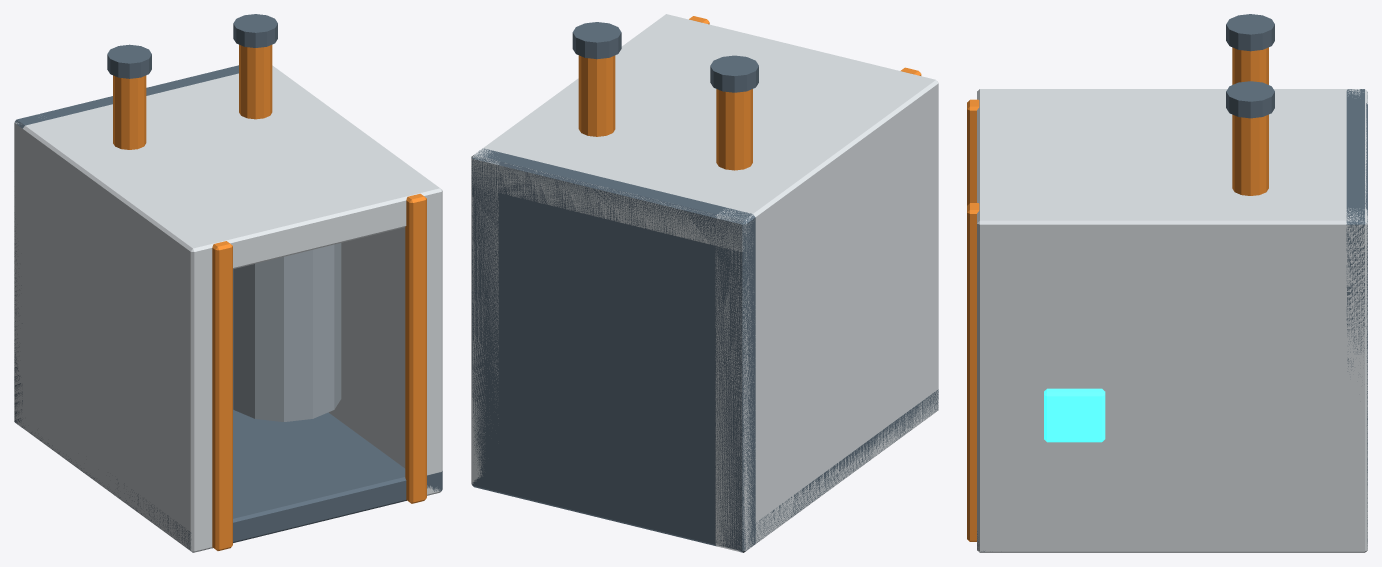
The model's file is machine-refinery.fbx.
3 renders of one model, left to right at view 1: azimuth 30°, elevation 25°; view 2: azimuth 150°, elevation 25°; view 3: azimuth 270°, elevation 25°, orthographic. The views are drawn at different scales.
Visible parts, largest first — view 1: machine-refinery_Machine column.002, machine-refinery_Crown.001, machine-refinery_Machine column.003, machine-refinery_Process vessel.003, machine-refinery_Skid.001, machine-refinery_Orange spine.003, machine-refinery_Orange spine.002, machine-refinery_Service stack.002, machine-refinery_Service stack.003, machine-refinery_Backplane.001, machine-refinery_Stack cap.003, machine-refinery_Stack cap.002; view 2: machine-refinery_Backplane.001, machine-refinery_Machine column.002, machine-refinery_Crown.001, machine-refinery_Skid.001, machine-refinery_Machine column.003, machine-refinery_Service stack.003, machine-refinery_Service stack.002, machine-refinery_Stack cap.003, machine-refinery_Stack cap.002; view 3: machine-refinery_Machine column.003, machine-refinery_Crown.001, machine-refinery_Backplane.001, machine-refinery_Machine column.002, machine-refinery_Orange spine.003, machine-refinery_Operator display.001, machine-refinery_Service stack.003, machine-refinery_Stack cap.003, machine-refinery_Stack cap.002, machine-refinery_Service stack.002, machine-refinery_Orange spine.002.
Boxes of the visible parts, <box> form: machine-refinery_Machine column.002: <box>14,114,216,552</box>; machine-refinery_Crown.001: <box>43,66,442,277</box>; machine-refinery_Machine column.003: <box>272,65,442,495</box>; machine-refinery_Process vessel.003: <box>233,243,341,421</box>; machine-refinery_Skid.001: <box>18,409,442,550</box>; machine-refinery_Orange spine.003: <box>405,193,426,503</box>; machine-refinery_Orange spine.002: <box>212,241,232,550</box>; machine-refinery_Service stack.002: <box>113,75,146,149</box>; machine-refinery_Service stack.003: <box>239,44,272,119</box>; machine-refinery_Backplane.001: <box>14,65,238,427</box>; machine-refinery_Stack cap.003: <box>233,14,277,47</box>; machine-refinery_Stack cap.002: <box>107,44,151,78</box>; machine-refinery_Backplane.001: <box>471,148,755,552</box>; machine-refinery_Machine column.002: <box>715,73,938,552</box>; machine-refinery_Crown.001: <box>471,20,938,251</box>; machine-refinery_Skid.001: <box>472,389,938,551</box>; machine-refinery_Machine column.003: <box>471,14,692,484</box>; machine-refinery_Service stack.003: <box>578,55,615,136</box>; machine-refinery_Service stack.002: <box>716,89,752,170</box>; machine-refinery_Stack cap.003: <box>572,22,621,59</box>; machine-refinery_Stack cap.002: <box>710,55,758,92</box>; machine-refinery_Machine column.003: <box>977,207,1367,552</box>; machine-refinery_Crown.001: <box>977,102,1367,252</box>; machine-refinery_Backplane.001: <box>1346,89,1367,545</box>; machine-refinery_Machine column.002: <box>977,89,1367,104</box>; machine-refinery_Orange spine.003: <box>967,203,979,541</box>; machine-refinery_Operator display.001: <box>1044,388,1105,442</box>; machine-refinery_Service stack.003: <box>1232,114,1268,195</box>; machine-refinery_Stack cap.003: <box>1226,81,1274,118</box>; machine-refinery_Stack cap.002: <box>1226,14,1274,51</box>; machine-refinery_Service stack.002: <box>1232,47,1268,84</box>; machine-refinery_Orange spine.002: <box>967,99,979,205</box>.
Bounding box in the file's own units: 276 × 388 × 328.
